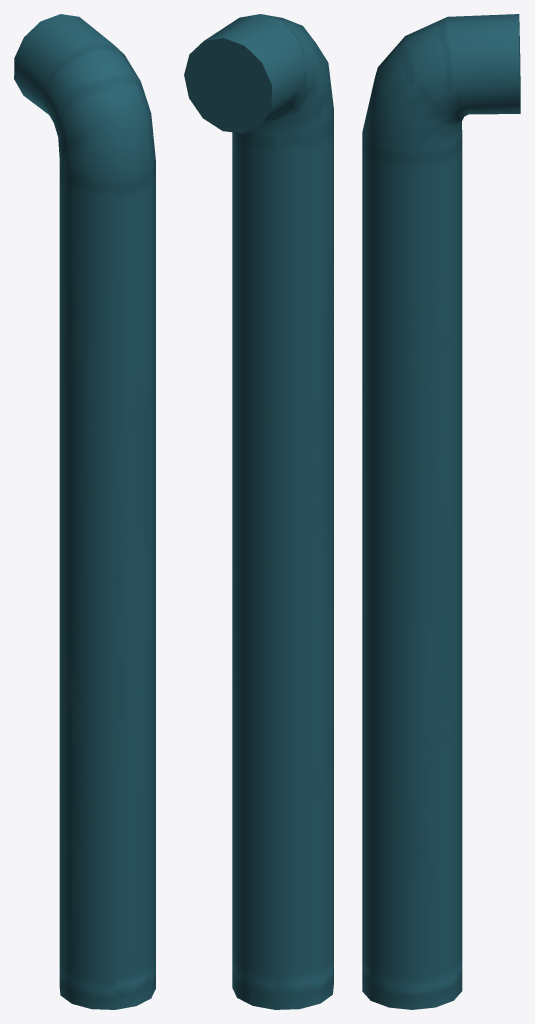
The model's file is buis klein.fbx.
The picture shows the model from 3 angles, left to right: view 1: azimuth 30°, elevation 25°; view 2: azimuth 150°, elevation 25°; view 3: azimuth 270°, elevation 25°; orthographic projection. The views are drawn at different scales.
Visible parts, largest first — view 1: pCylinder10; view 2: pCylinder10; view 3: pCylinder10.
Part boxes in pixels (x1,y1,x2,y2): pCylinder10: (14,14,155,1009); pCylinder10: (184,14,333,1009); pCylinder10: (362,14,520,1009).
Bounding box in the file's own units: 0.4935 × 5.31 × 0.788.
1 material, 1 textured.
